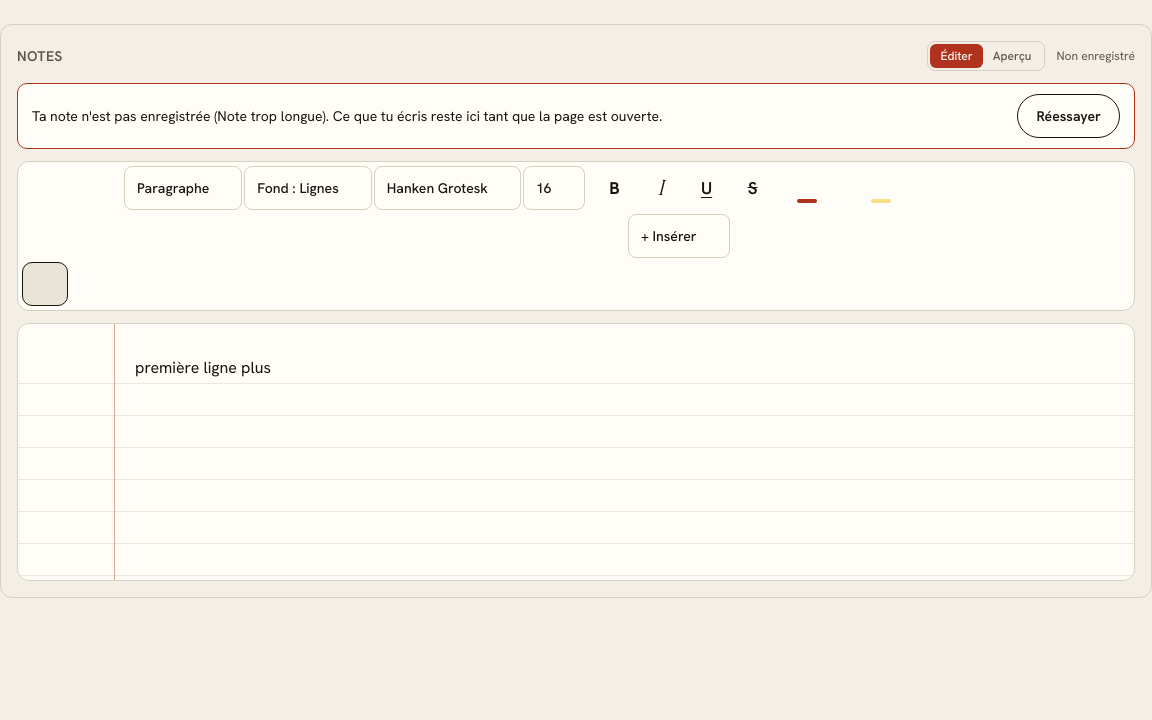
it: a save the server did not take (YC-62) › « Réessayer » sends the note at once
The width and height of the screenshot is (1152, 720).
Expected: the field named "Note de la vidéo" shows "première", [135, 357, 271, 378]
Expected: the message is shown, [17, 83, 1135, 149]
Click the button "Réessayer": (1069, 116) [1017, 94, 1120, 138]
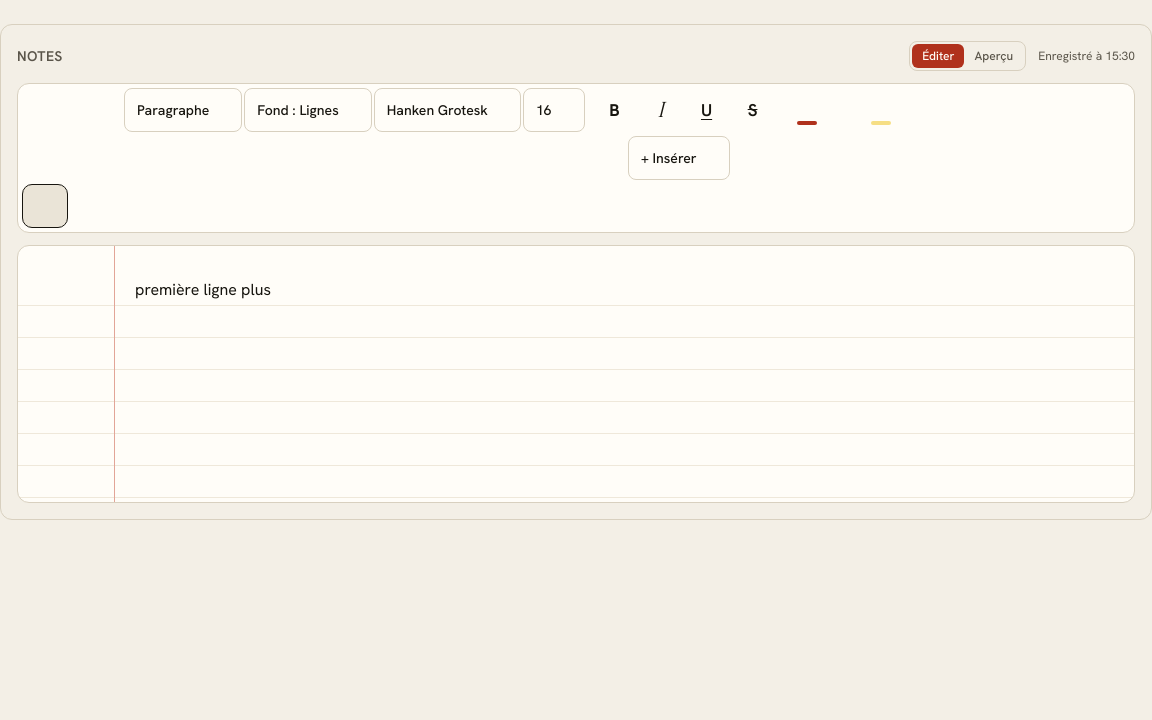
Result: the message is gone
